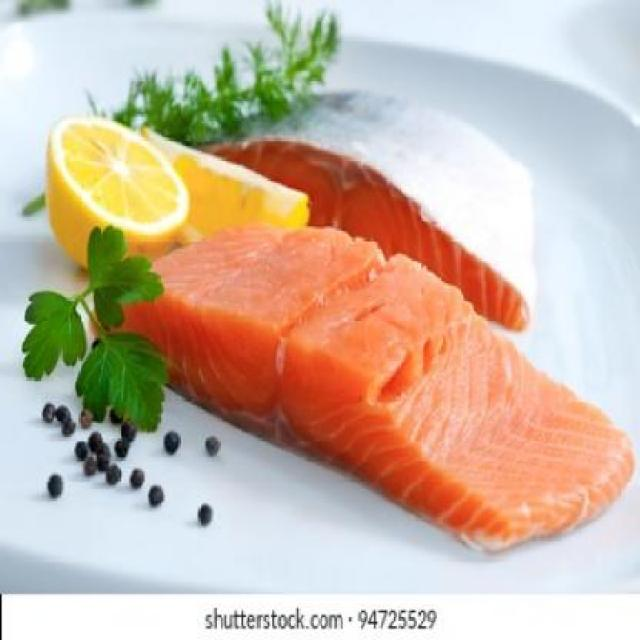salmon: (80, 197, 639, 558)
